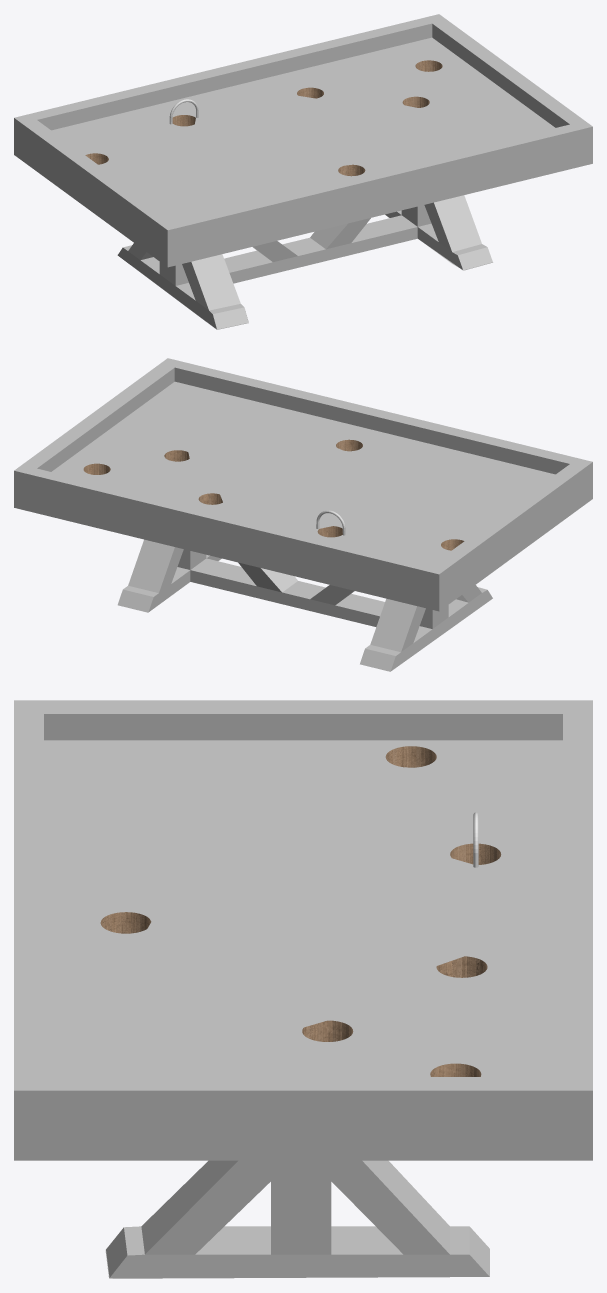
The model's file is pool.fbx.
The picture shows the model from 3 angles, top to bottom: view 1: azimuth 30°, elevation 25°; view 2: azimuth 150°, elevation 25°; view 3: azimuth 270°, elevation 25°; orthographic projection. The views are drawn at different scales.
Visible parts, largest first — view 1: Table; view 2: Table; view 3: Table.
Part boxes in pixels (x1,y1,x2,y2): Table: (14,14,592,329); Table: (14,358,592,671); Table: (14,700,592,1278).
Bounding box in the file's own units: 983 × 316 × 616.
